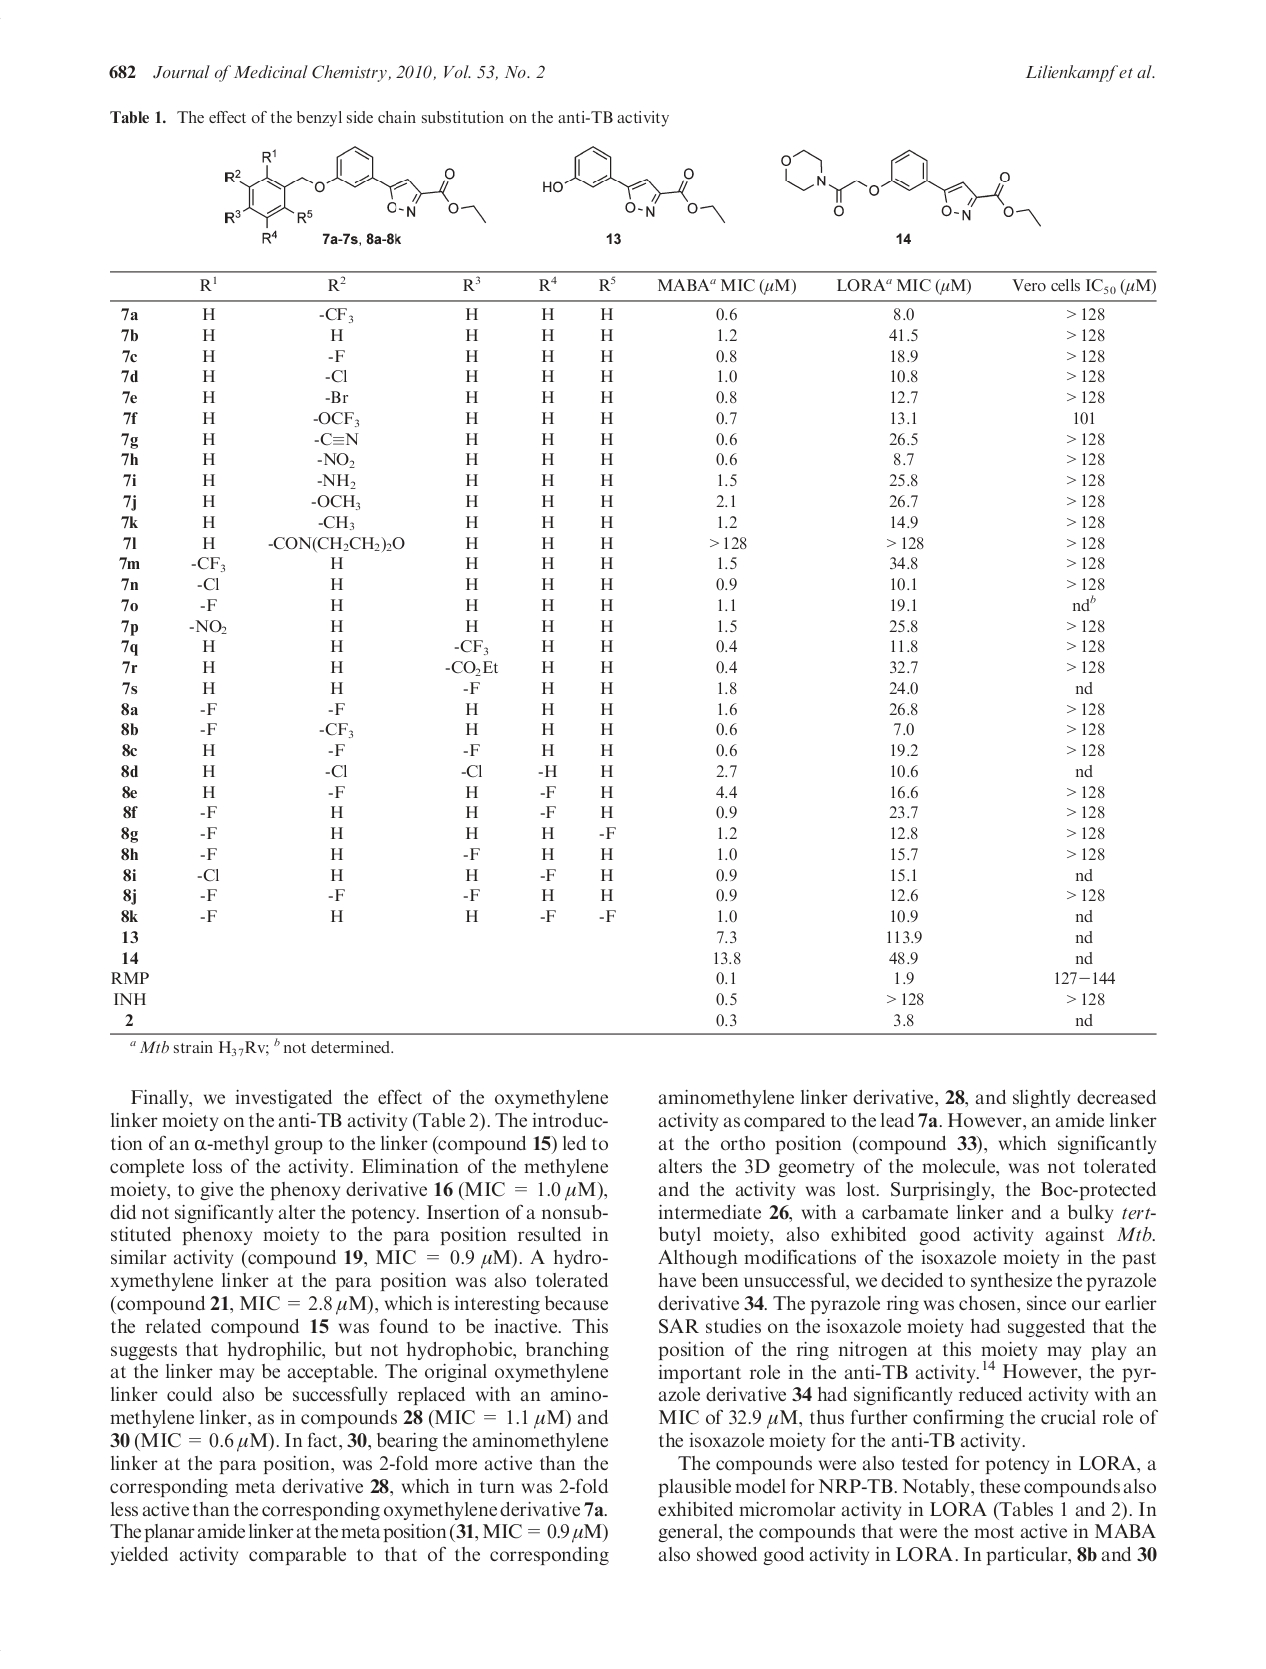exist_molecular: (223, 144, 485, 247), (779, 146, 1044, 230), (541, 144, 729, 227)
